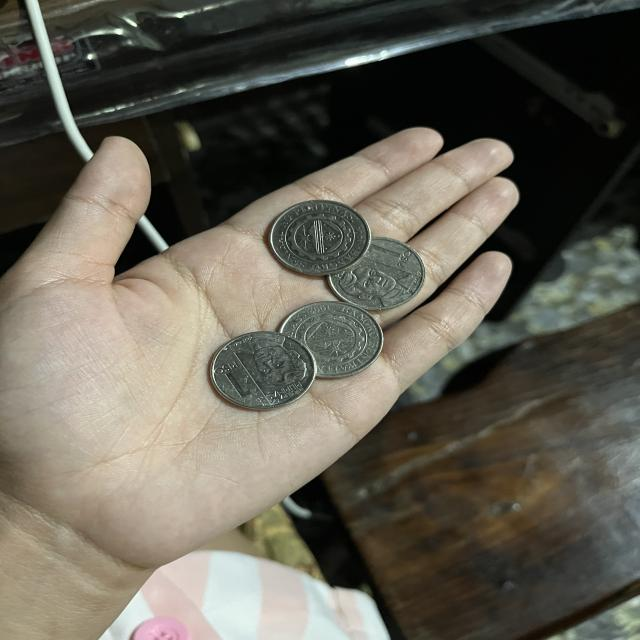1_New_Front: (221, 341, 306, 400), (336, 240, 414, 300)
1_Old_Back: (282, 205, 352, 267), (297, 309, 370, 365)
